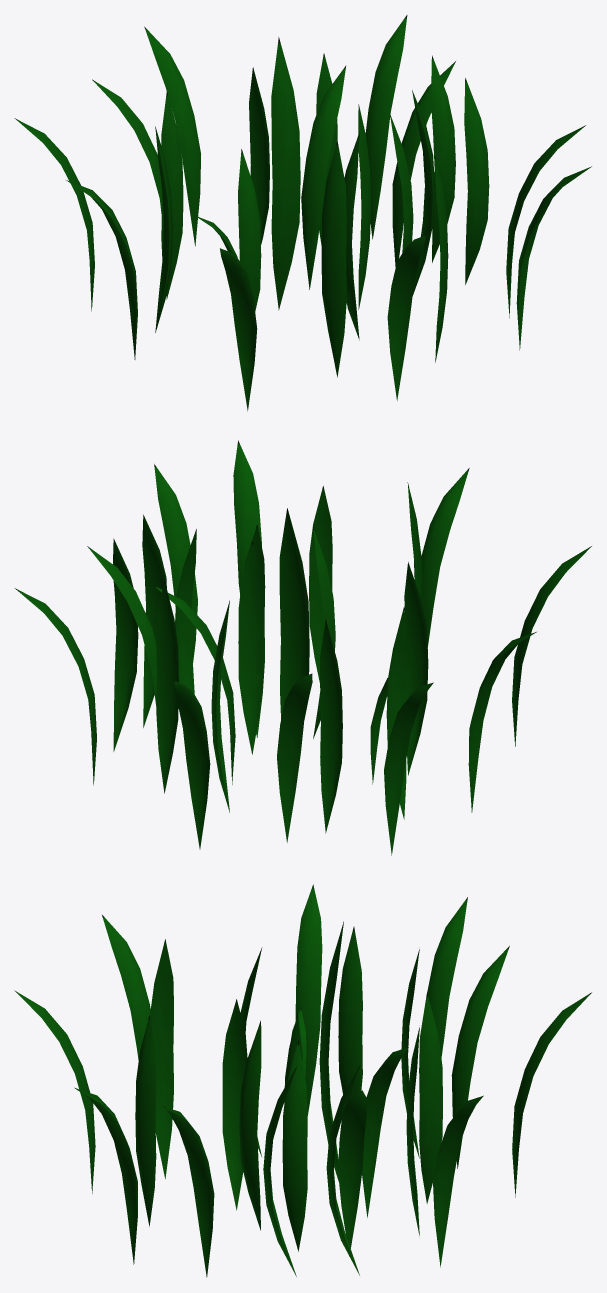
The model's file is Grass.fbx.
3 renders of one model, top to bottom at view 1: azimuth 30°, elevation 25°; view 2: azimuth 150°, elevation 25°; view 3: azimuth 270°, elevation 25°, orthographic. The views are drawn at different scales.
Visible parts, largest first — view 1: Grass; view 2: Grass; view 3: Grass.
Boxes of the visible parts, box(x1,y1,x2,y2) form: Grass: box(14, 15, 591, 411); Grass: box(15, 440, 591, 855); Grass: box(14, 884, 591, 1277).
Size of the model in its own units: 89.61 by 52.49 by 98.68.
